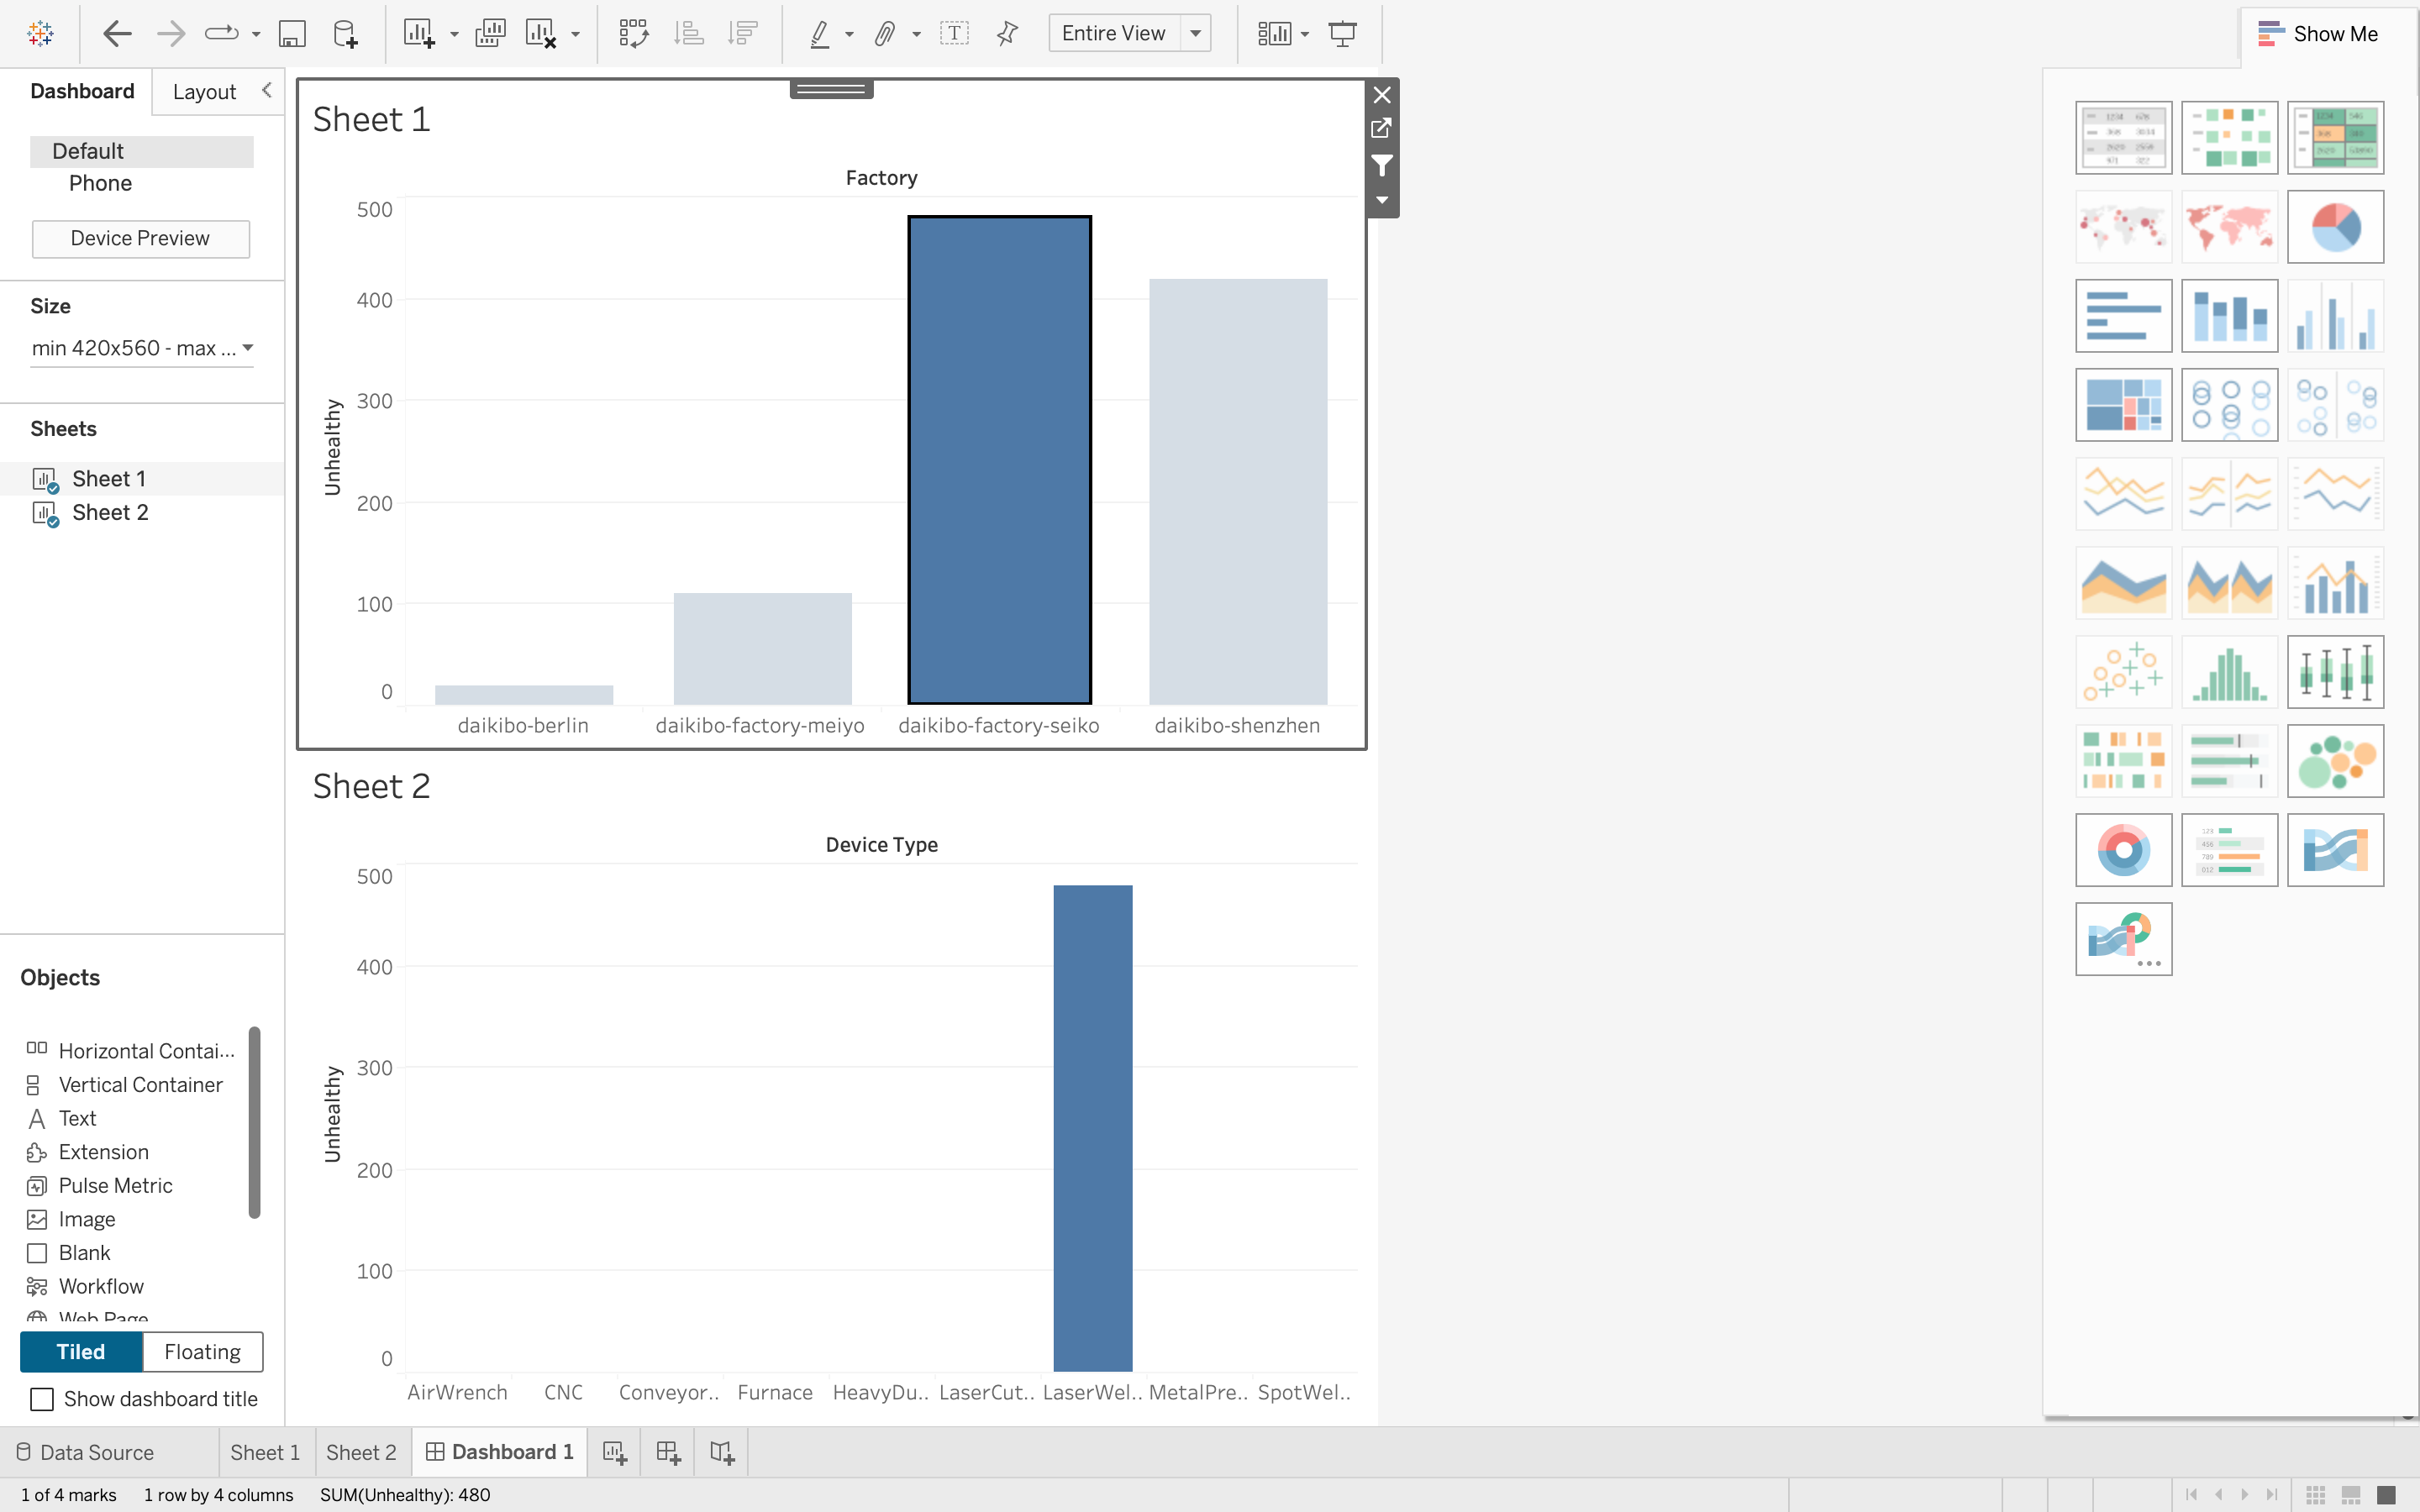

The dashboard page shown, as its layout file describes it:
{"tool":"tableau","page":{"name":"Dashboard 1","canvas":[650,860],"ordinal":0},"visuals":[{"type":"worksheet","title":"Sheet 1","mark":"Automatic","rows":["Calculation_1505569520435200"],"cols":["factory"],"box":[8,10.1,634,419.9]},{"type":"worksheet","title":"Sheet 2","mark":"Automatic","rows":["Calculation_1505569520435200"],"cols":["deviceType"],"box":[8,430,634,419.9]}]}

Visuals, with their boxes on the page's 650x860 design canvas (x1, y1, x2, y2). These are canvas units, not pixel positions in the 2420x1512 screenshot, which may show the page scaled, cropped or inside an application window:
"Sheet 1" worksheet: <region>8, 10, 642, 430</region>
"Sheet 2" worksheet: <region>8, 430, 642, 850</region>
